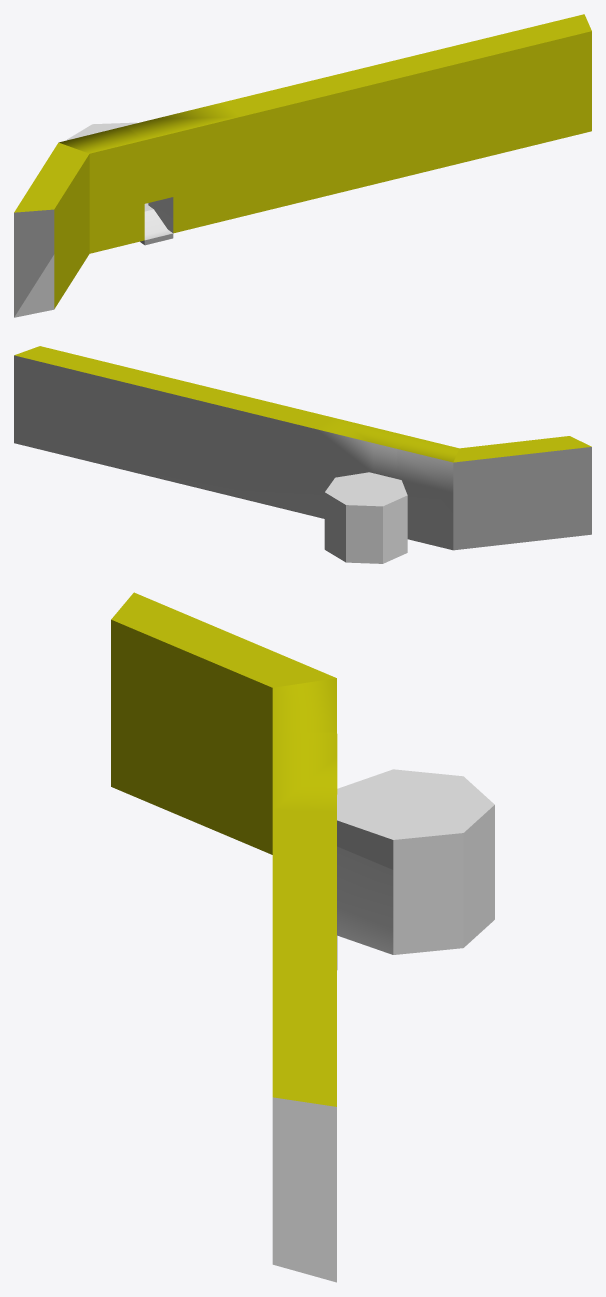
The model's file is northwall.fbx.
3 renders of one model, top to bottom at view 1: azimuth 30°, elevation 25°; view 2: azimuth 150°, elevation 25°; view 3: azimuth 270°, elevation 25°, orthographic. The views are drawn at different scales.
Visible parts, largest first — view 1: North_wall_and_spawn; view 2: North_wall_and_spawn; view 3: North_wall_and_spawn.
Boxes of the visible parts, left/top/right/bottom form: North_wall_and_spawn: left=14, top=14, right=591, bottom=317; North_wall_and_spawn: left=14, top=346, right=591, bottom=563; North_wall_and_spawn: left=111, top=592, right=494, bottom=1282.
Bounding box in the file's own units: 132 × 21 × 41.59.
